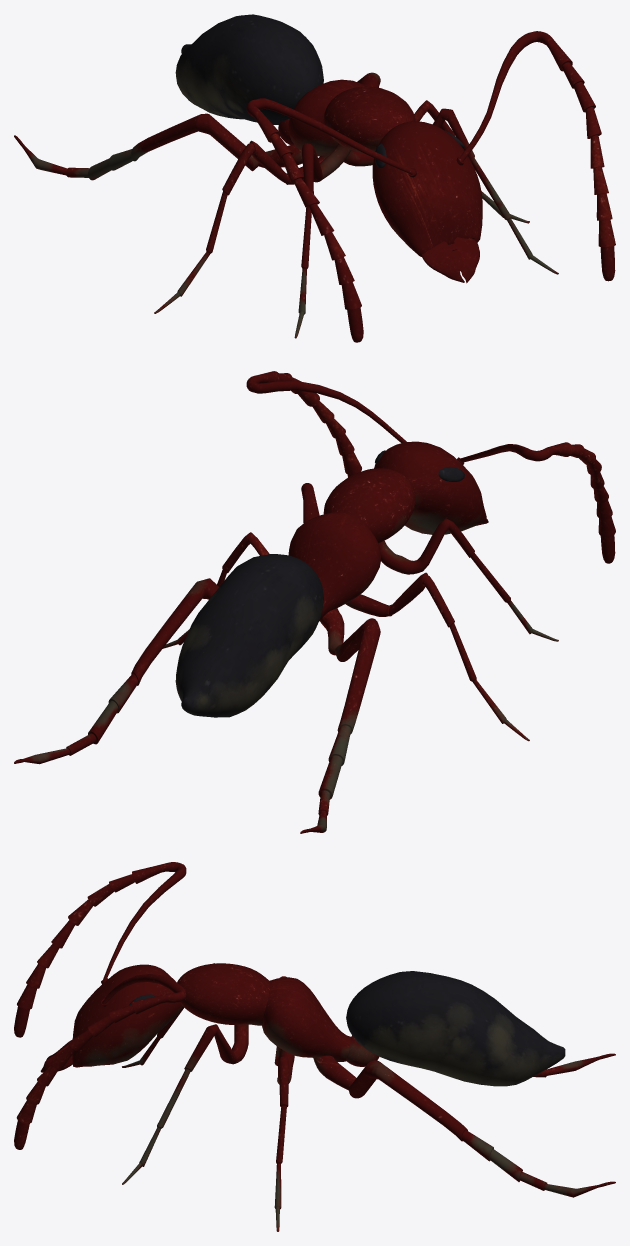
File: ant.glb
The picture shows the model from 3 angles, top to bottom: view 1: azimuth 30°, elevation 25°; view 2: azimuth 150°, elevation 25°; view 3: azimuth 270°, elevation 25°; orthographic projection. The views are drawn at different scales.
Parts seen in each view (by area): view 1: mouth; view 2: mouth; view 3: mouth.
Boxes of the visible parts, <box> form: mouth: <box>14,14,615,342</box>; mouth: <box>14,371,615,833</box>; mouth: <box>14,862,615,1231</box>.
Bounding box in the file's own units: 7.63 × 4.72 × 11.57.
Materials: 1 (1 with a texture image).
